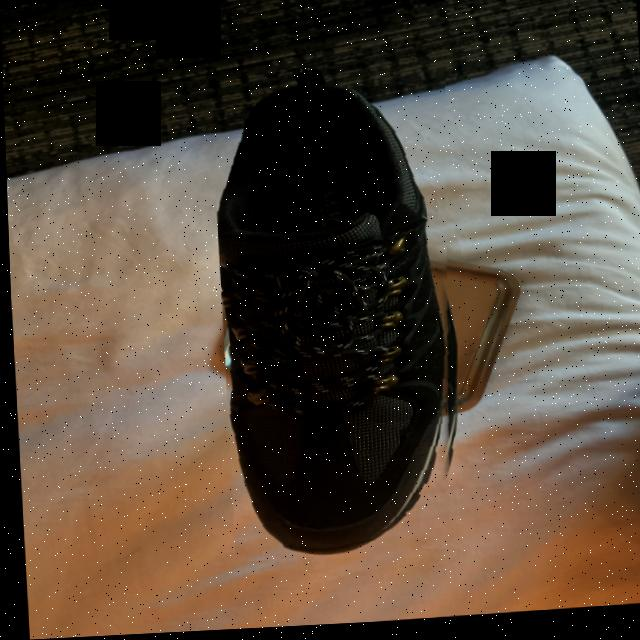shoe: (209, 76, 466, 565)
